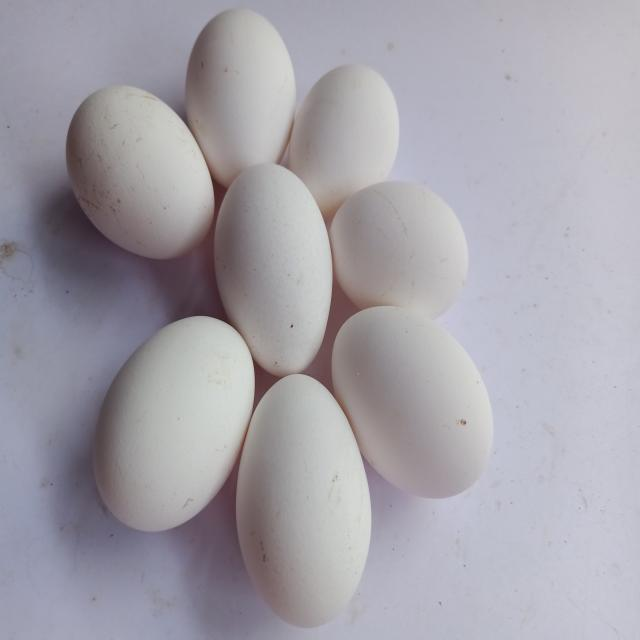Egg: (93, 316, 254, 532), (236, 374, 372, 628), (332, 306, 494, 499), (65, 84, 214, 258), (214, 163, 332, 377), (185, 7, 296, 187), (329, 180, 469, 319), (288, 64, 399, 218)
